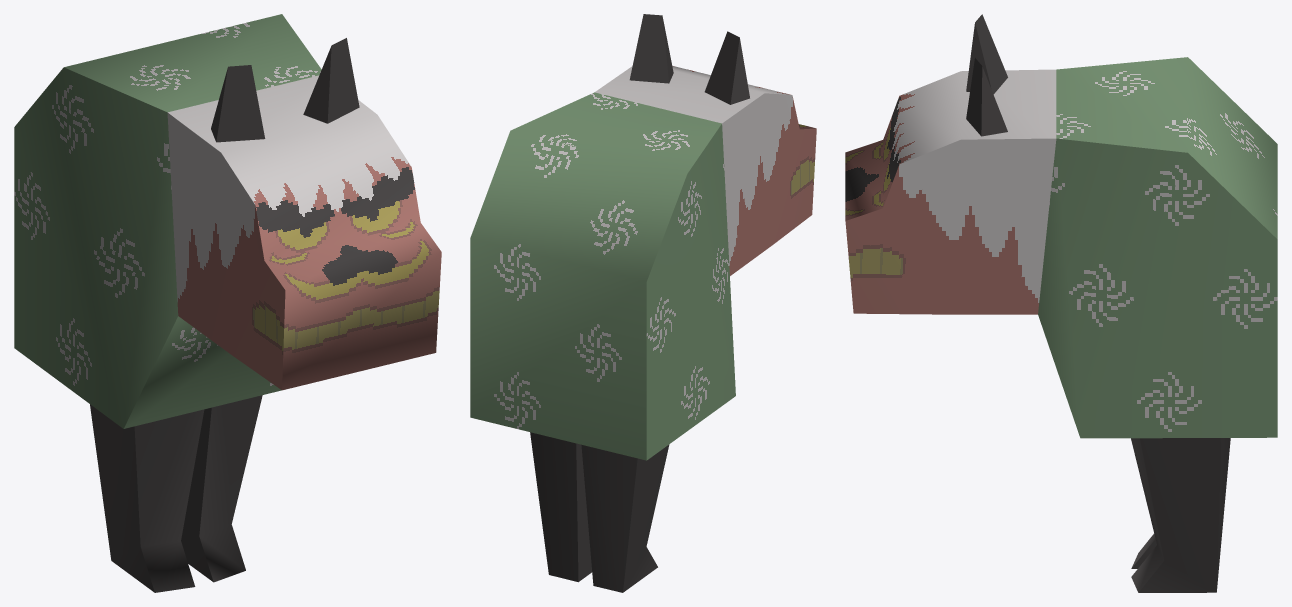
The model's file is 058f_Lion_Dance.glb.
3 views of the same model, side by side, from view 1: azimuth 30°, elevation 25°; view 2: azimuth 150°, elevation 25°; view 3: azimuth 270°, elevation 25° (orthographic). The views are drawn at different scales.
Parts seen in each view (by area): view 1: part_0; view 2: part_0; view 3: part_0.
Part boxes in pixels (x1=…): part_0: x1=14, y1=14, x2=441, y2=592; part_0: x1=470, y1=14, x2=816, y2=592; part_0: x1=845, y1=14, x2=1277, y2=592.
Bounding box in the file's own units: 0.6232 × 1.62 × 1.19.
Materials: 1 (1 with a texture image).
